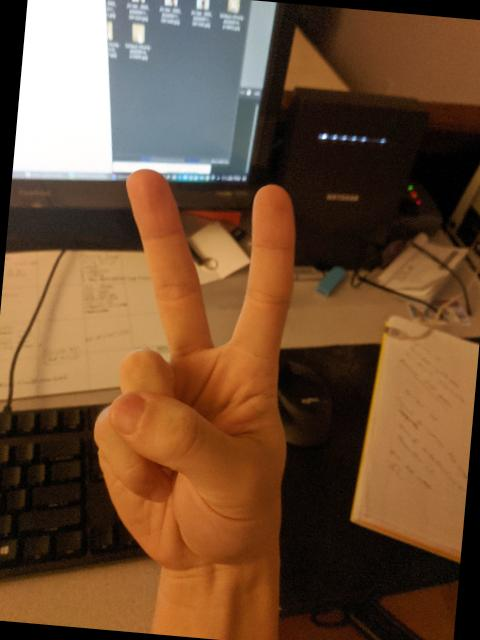V: (75, 158, 320, 586)
